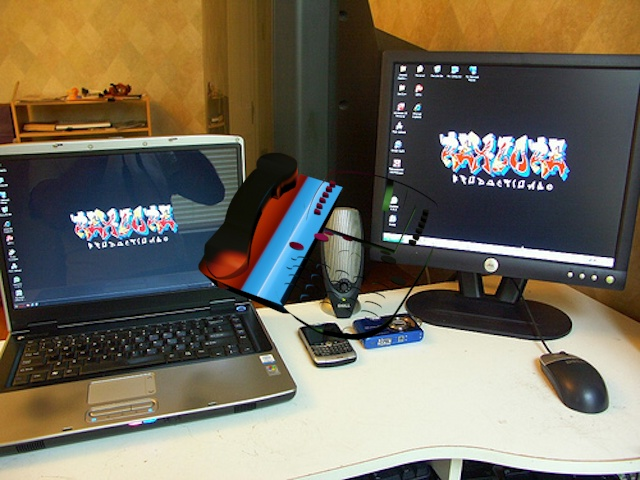phone: (192, 145, 440, 344)
